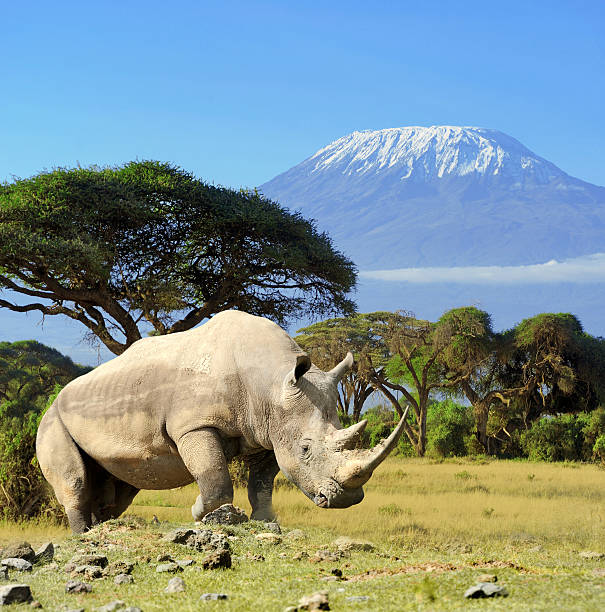rhino: (261, 337, 424, 526)
